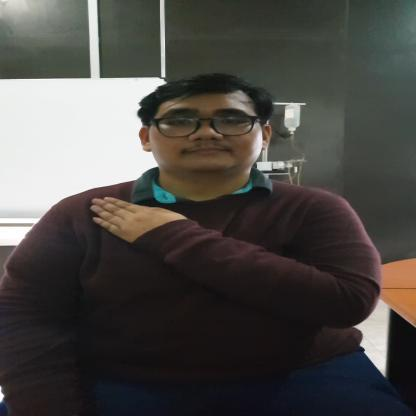Saya: (82, 196, 208, 258)
